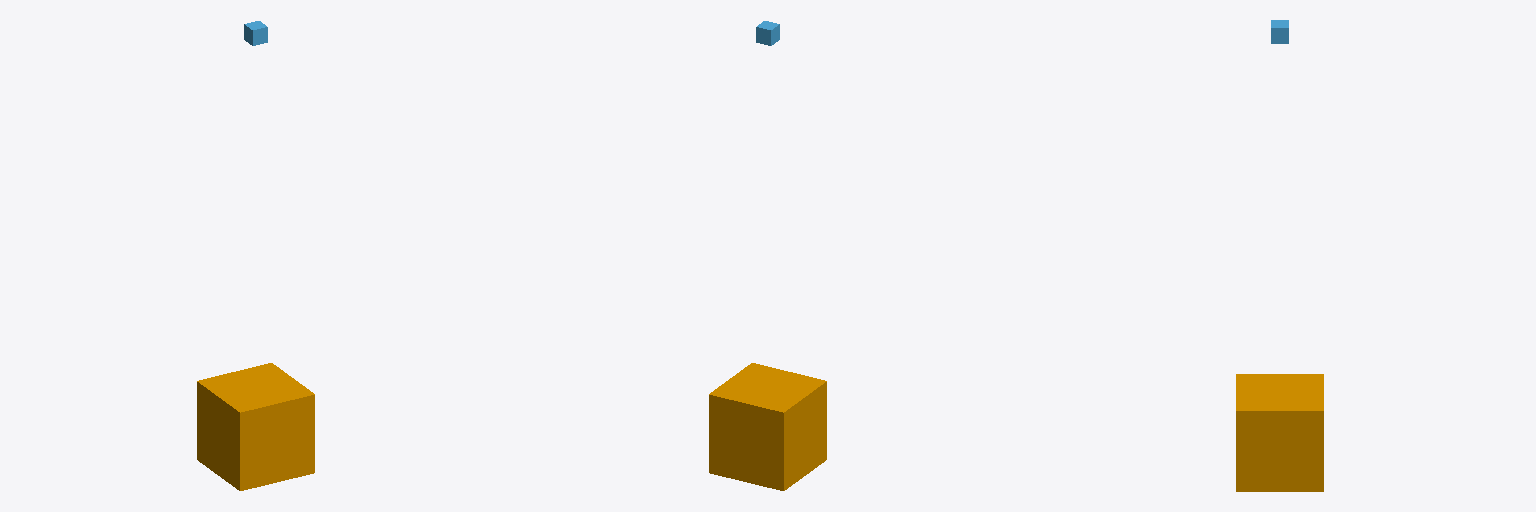
The robot description file, URDF, robot "calibrated_camera_fixture":
<?xml version="1.0"?>
<robot name="calibrated_camera_fixture">
  <link name="base">
    <inertial><mass value="1"/><inertia ixx="0.1" iyy="0.1" izz="0.1" ixy="0" ixz="0" iyz="0"/></inertial>
    <visual><geometry><box size="0.1 0.1 0.1"/></geometry></visual>
    <collision><geometry><box size="0.1 0.1 0.1"/></geometry></collision>
  </link>
  <link name="sensor_link">
    <inertial><mass value="0.1"/><inertia ixx="0.01" iyy="0.01" izz="0.01" ixy="0" ixz="0" iyz="0"/></inertial>
    <visual><geometry><box size="0.02 0.02 0.02"/></geometry></visual>
  </link>
  <joint name="pivot" type="revolute"><parent link="base"/><child link="sensor_link"/><origin xyz="0 0 0.5"/><axis xyz="0 0 1"/><limit lower="-1" upper="1" effort="1" velocity="1"/></joint>
  <gazebo reference="sensor_link">
    <sensor name="calibrated_eye" type="camera">
      <pose>0.05 0 0.1 0 0 0</pose>
      <camera>
        <pose>0.01 0.02 0.03 0 0 0</pose>
        <image><width>384</width><height>256</height><format>R8G8B8</format></image>
        <clip><near>0.03</near><far>42</far></clip>
        <lens><intrinsics><fx>344.5</fx><fy>355.7</fy><cx>173</cx><cy>132</cy><s>0</s></intrinsics></lens>
      </camera>
    </sensor>
  </gazebo>
</robot>

--- What the picture shows (computed from the rendered views, not written in the file) ---
The picture shows the robot from 3 angles, left to right: view 1: azimuth 30°, elevation 25°; view 2: azimuth 150°, elevation 25°; view 3: azimuth 270°, elevation 25°; orthographic projection.
Robot: calibrated_camera_fixture — 2 links, 1 joints (1 revolute); root link base; default pose: all joints at 0.
Visible links, largest first — view 1: base; view 2: base; view 3: base.
Link boxes in pixels (<box>): base: <box>197,363,314,490</box>; base: <box>709,363,826,490</box>; base: <box>1236,374,1323,491</box>.
Bounding box of the posed robot: 0.1 × 0.1 × 0.56 m (x, y, z).
Geometry: primitives only (box / cylinder / sphere), no mesh files.
